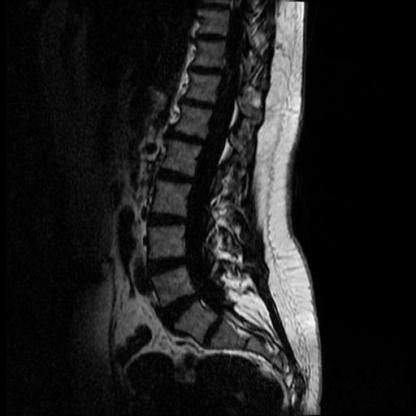Annular Disc Relaxationrotation: (158, 296, 204, 321), (199, 318, 228, 346)
Degenerative Disc Diseaserotation: (159, 296, 205, 321), (199, 318, 228, 344), (160, 167, 196, 187)
Disc Bulgerotation: (160, 167, 196, 187)
